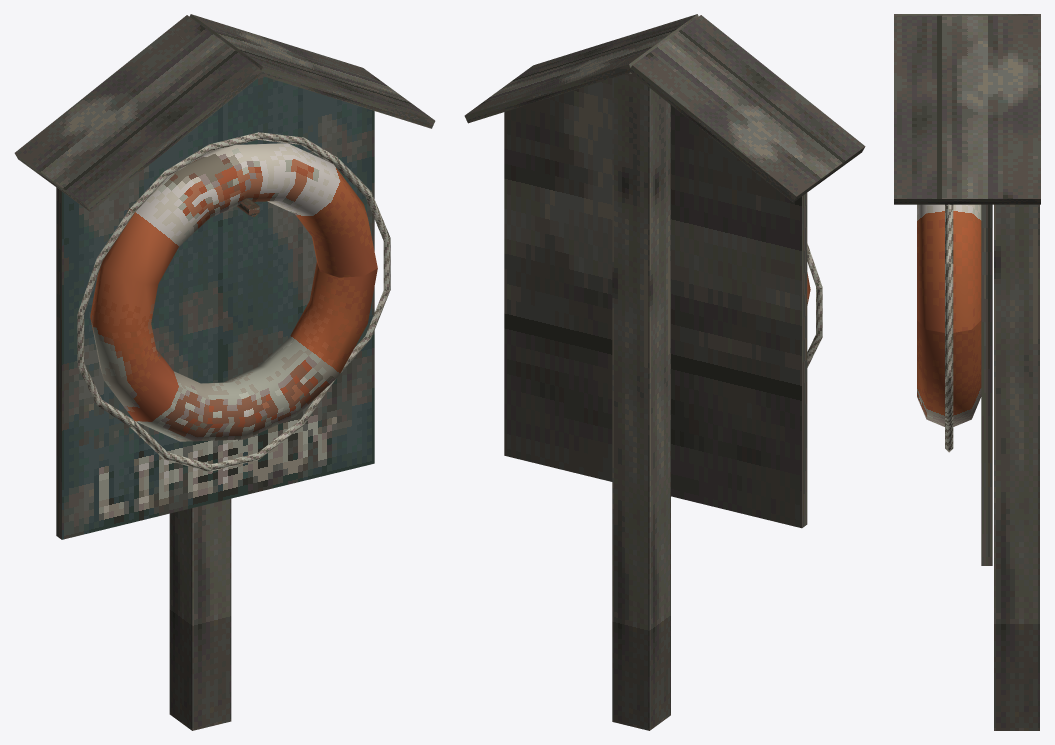
The model's file is life_ring_post.glb.
3 views of the same model, side by side, from view 1: azimuth 30°, elevation 25°; view 2: azimuth 150°, elevation 25°; view 3: azimuth 270°, elevation 25° (orthographic). The views are drawn at different scales.
Parts seen in each view (by area): view 1: life_ring_post; view 2: life_ring_post; view 3: life_ring_post.
Boxes of the visible parts, <box> form: life_ring_post: <box>14,14,435,730</box>; life_ring_post: <box>464,14,865,730</box>; life_ring_post: <box>894,14,1040,730</box>.
Size of the model in its own units: 0.8923 by 1.7 by 0.32.
1 material, 1 textured.
